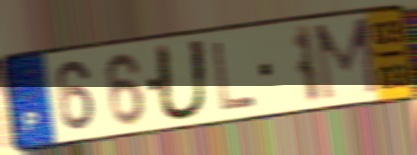1: (290, 21, 323, 107)
6: (54, 57, 99, 133), (104, 50, 147, 129)
L: (209, 39, 259, 114)
M: (311, 14, 383, 106)
U: (151, 37, 212, 124)
